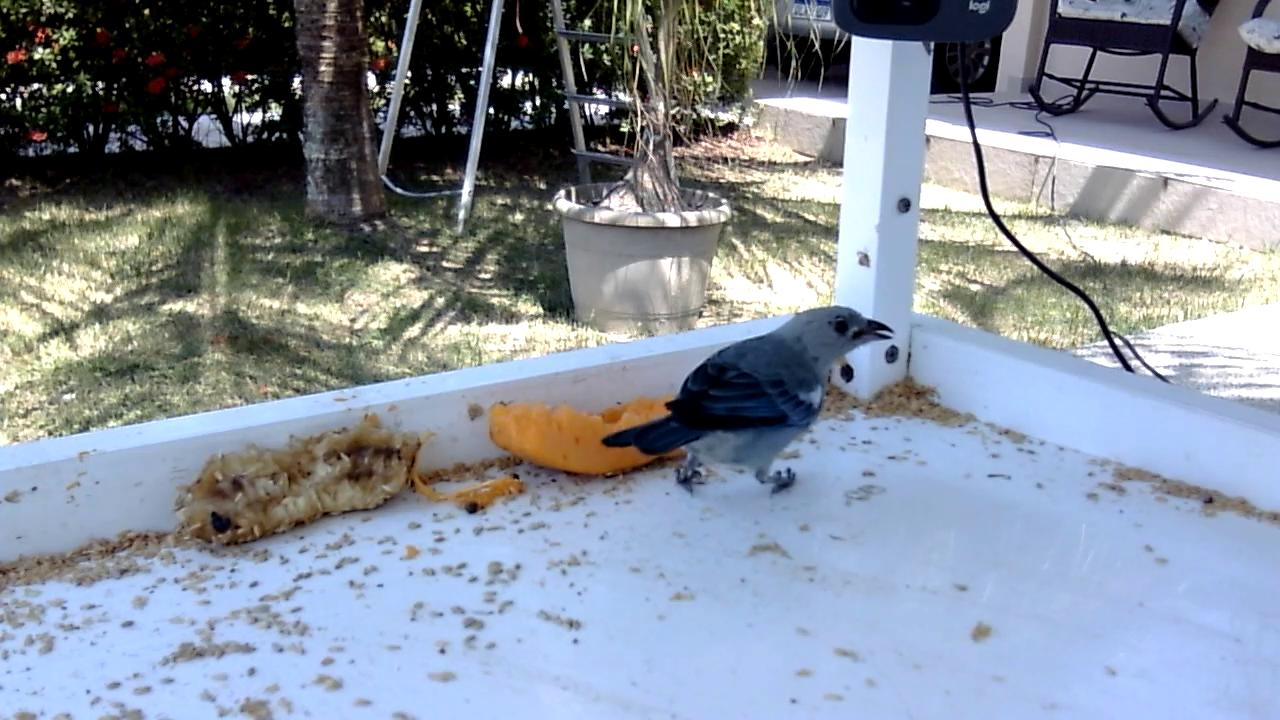sanhaco_da_amazonia: (602, 304, 897, 502)
